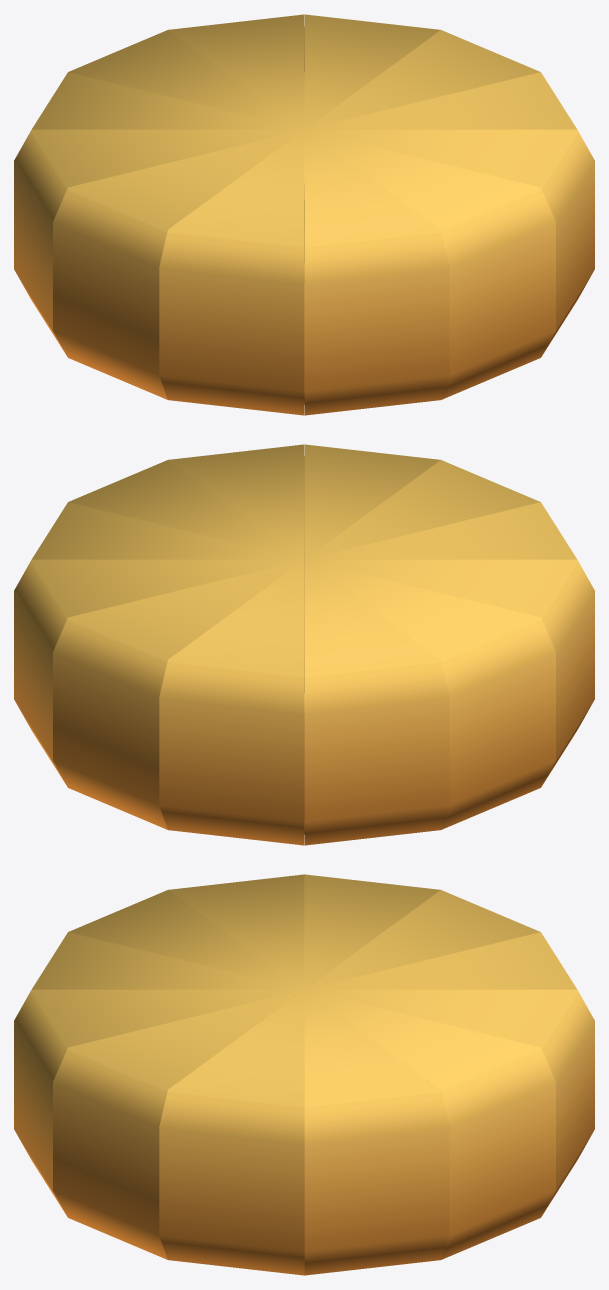
The model's file is cheese.glb.
3 renders of one model, top to bottom at view 1: azimuth 30°, elevation 25°; view 2: azimuth 150°, elevation 25°; view 3: azimuth 270°, elevation 25°, orthographic.
Parts seen in each view (by area): view 1: wedge (×12); view 2: wedge (×12); view 3: wedge (×12).
Boxes of the visible parts, left/top/right/bottom form: wedge (×12): left=14, top=14, right=594, bottom=415; wedge (×12): left=14, top=444, right=594, bottom=845; wedge (×12): left=14, top=874, right=594, bottom=1275.
Size of the model in its own units: 0.68 by 0.22 by 0.68.
1 material, 1 textured.
